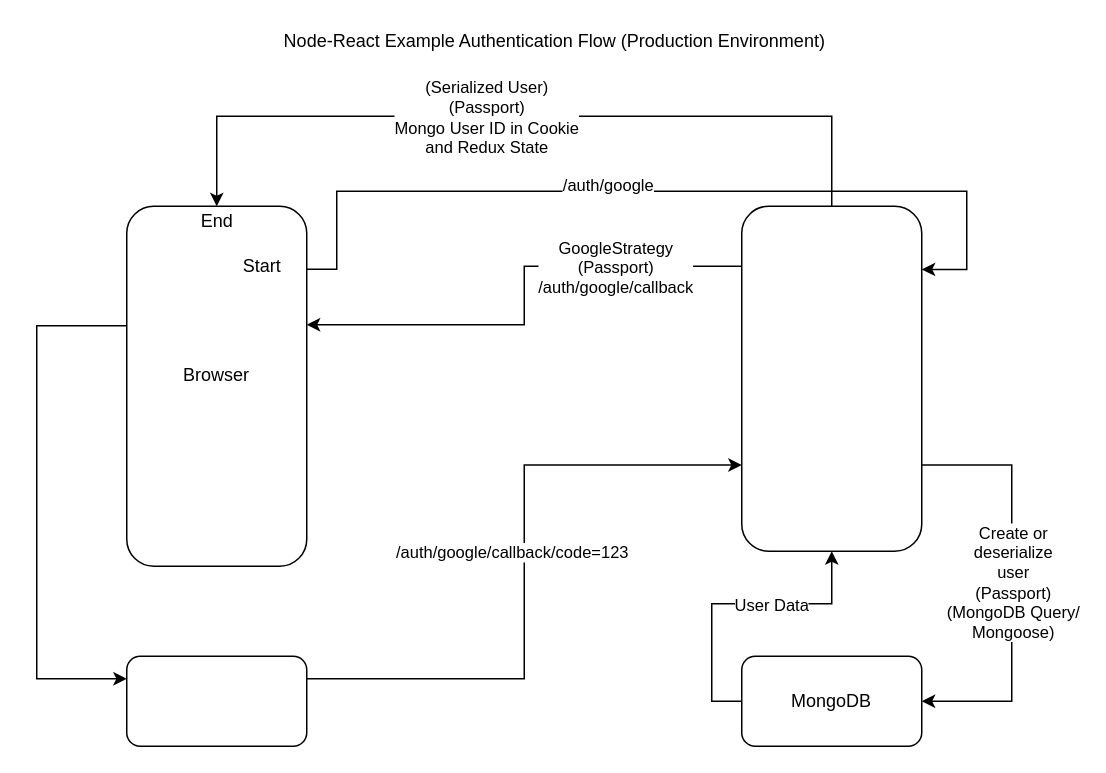
Some shapes in this 1106 by 773 pixel diagram are drawn without their labels. Here are the shapes that lost their labels. From the top down, the box of each, then its label:
(740, 205, 922, 551): Express Passport
(125, 655, 307, 746): Google OAuth (Login)
